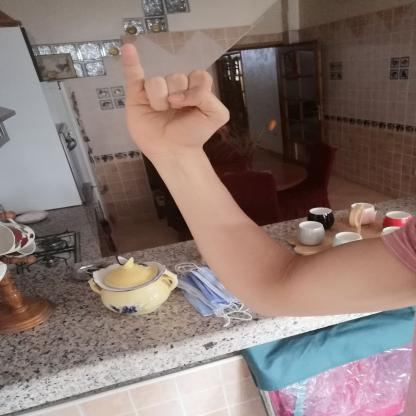MEEM: (104, 33, 246, 163)
